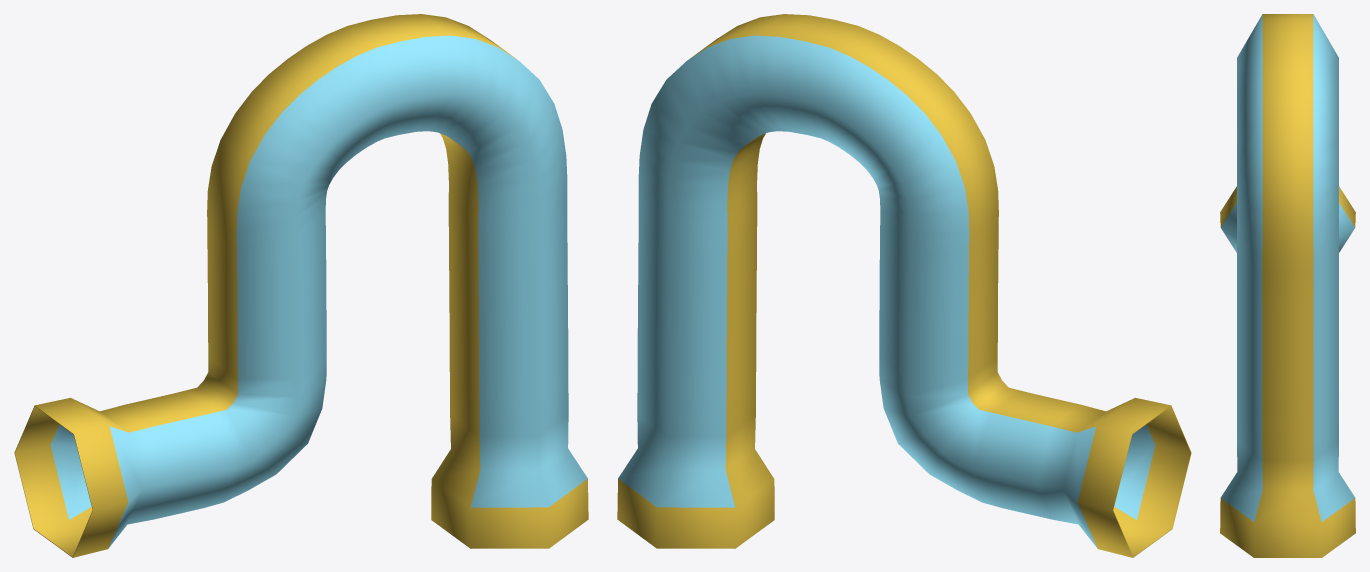
Rendered from big-pipe-edit.fbx.
3 views of the same model, side by side, from view 1: azimuth 30°, elevation 25°; view 2: azimuth 150°, elevation 25°; view 3: azimuth 270°, elevation 25° (orthographic). The views are drawn at different scales.
Parts seen in each view (by area): view 1: big-pipe; view 2: big-pipe; view 3: big-pipe.
Part boxes in pixels (x1,y1,x2,y2): big-pipe: (14, 14, 588, 557); big-pipe: (617, 14, 1191, 557); big-pipe: (1220, 14, 1355, 557).
Size of the model in its own units: 28.83 by 27.75 by 7.62.
Materials: 1 (1 with a texture image).
